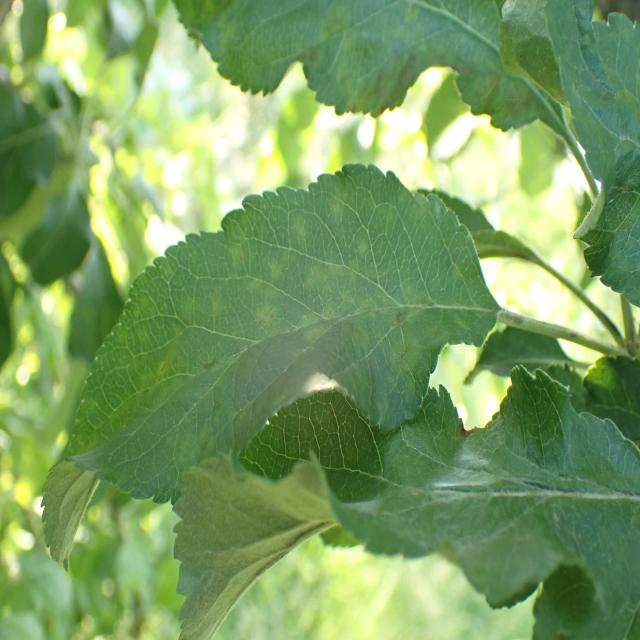scab: (107, 209, 482, 420), (200, 0, 478, 136)
